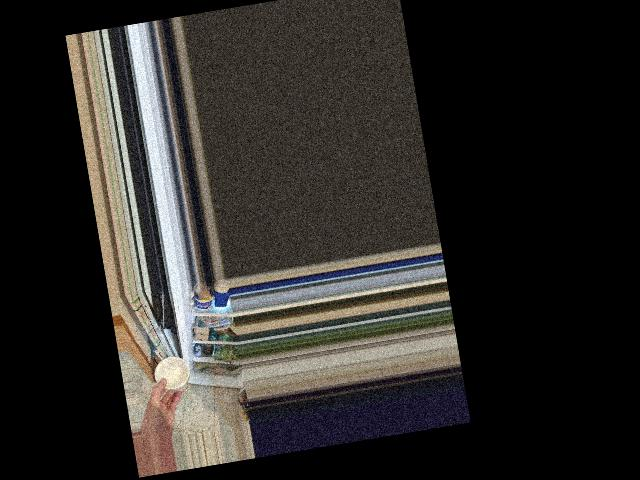cotage: (153, 349, 193, 391)
